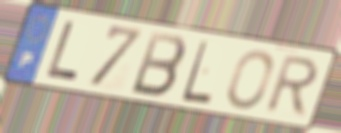7: (86, 23, 146, 90)
B: (128, 29, 189, 100)
L: (43, 19, 81, 85), (179, 38, 215, 107)
O: (225, 49, 276, 111)
R: (261, 54, 323, 120)
